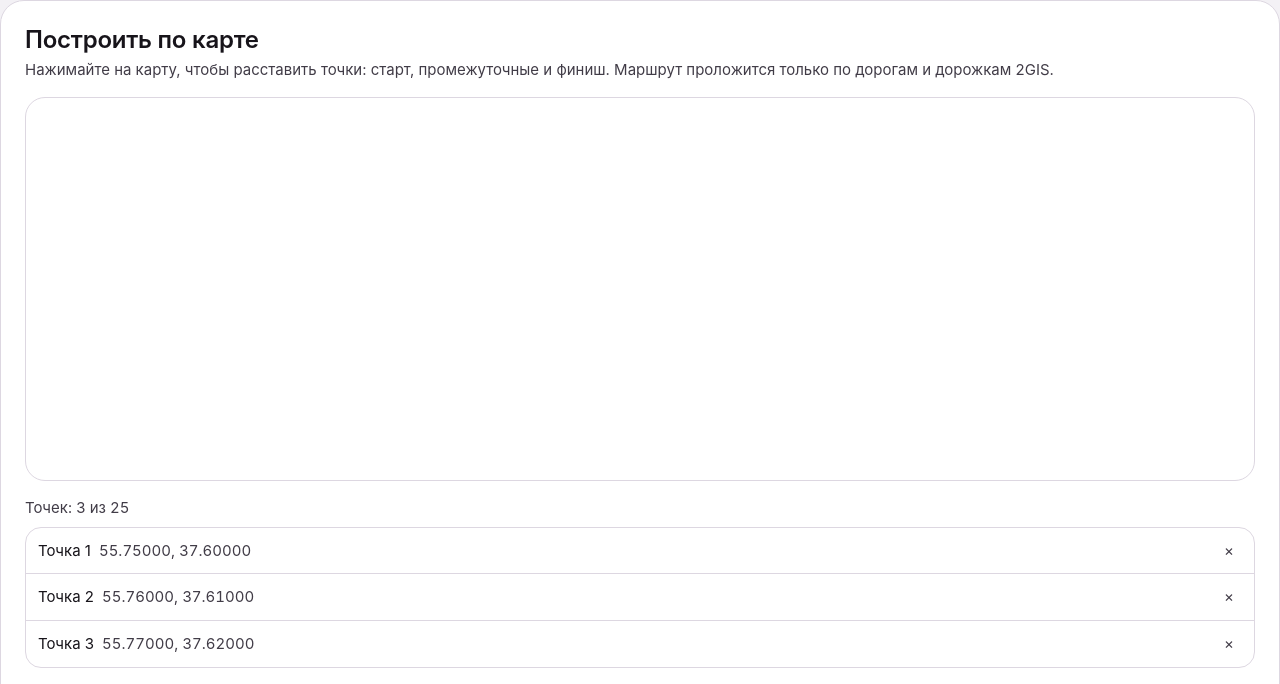
Scenario: RouteBuilder › removes a single point, the last point, or all of them
This screenshot has width=1280, height=684.
Click the button named "Удалить точку 1" at (1229, 550), box x1=1216 y1=536 x2=1242 y2=565
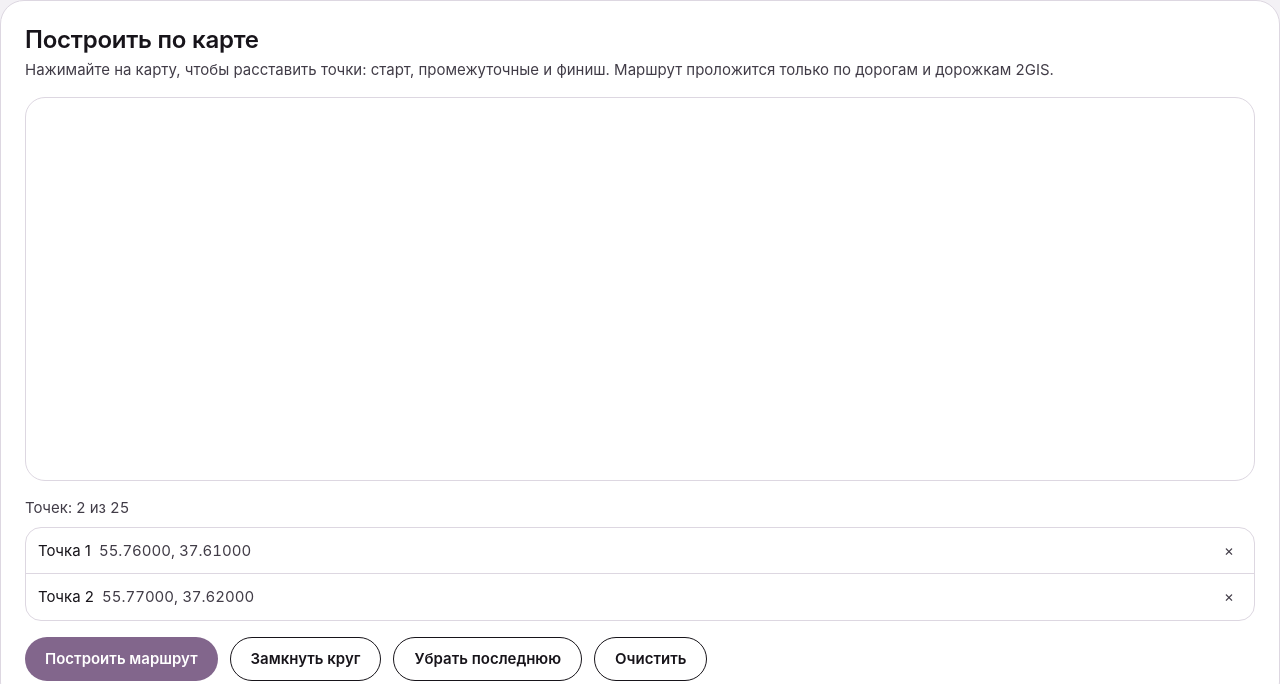
Now the text "55.75000, 37.60000" is gone
Click the button "Убрать последнюю" at (488, 659), box x1=393 y1=637 x2=582 y2=681
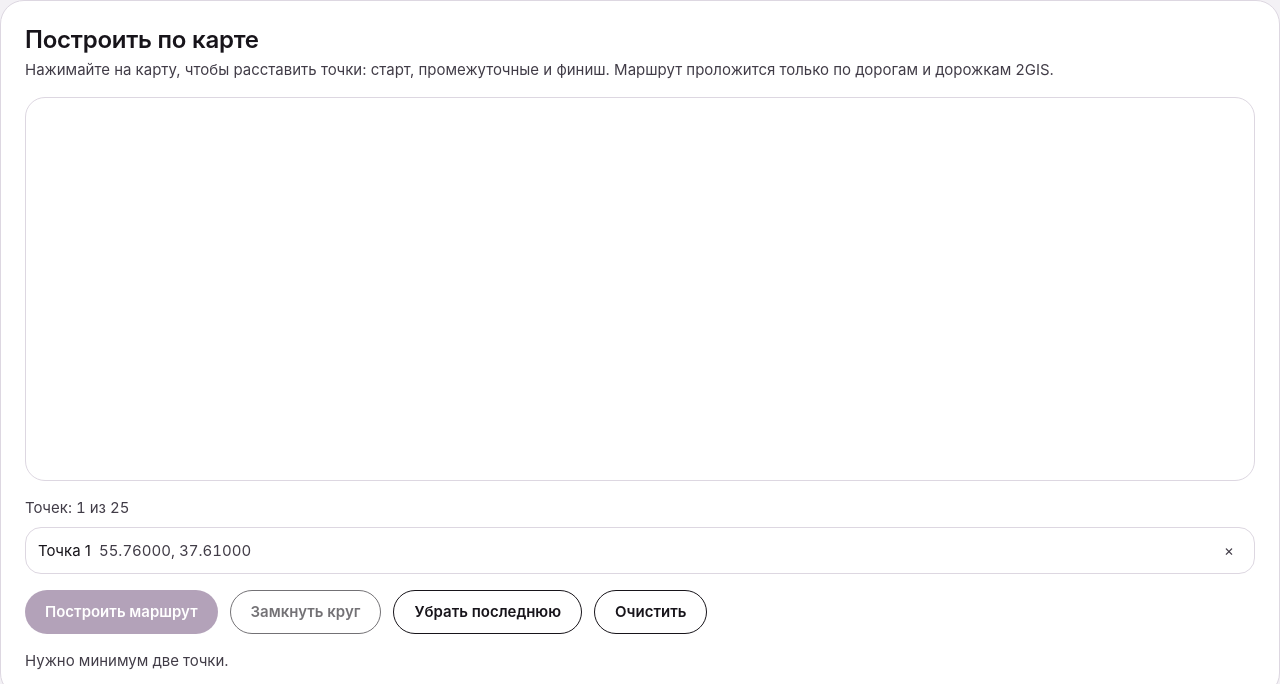
Now the text "55.77000, 37.62000" is gone
Click the button "Очистить" at (651, 612), box x1=594 y1=590 x2=708 y2=634
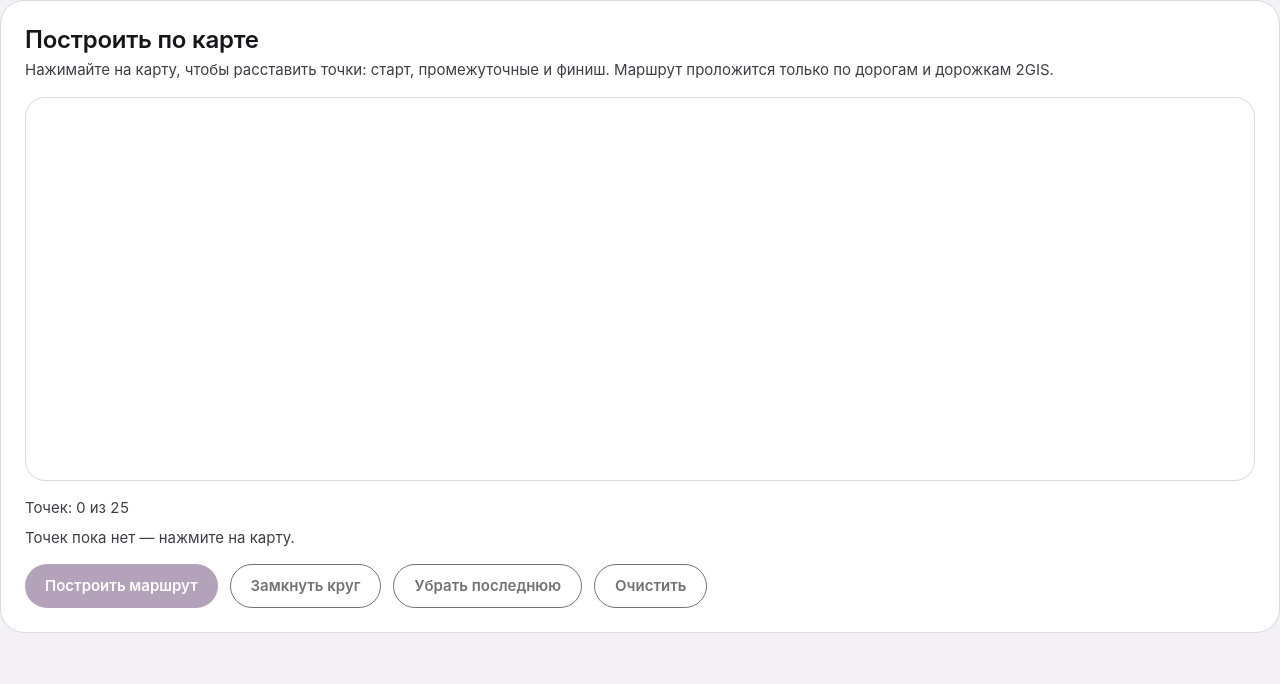
Now the text "Точек пока нет — нажмите на карту." is shown, box x1=25 y1=528 x2=295 y2=546
